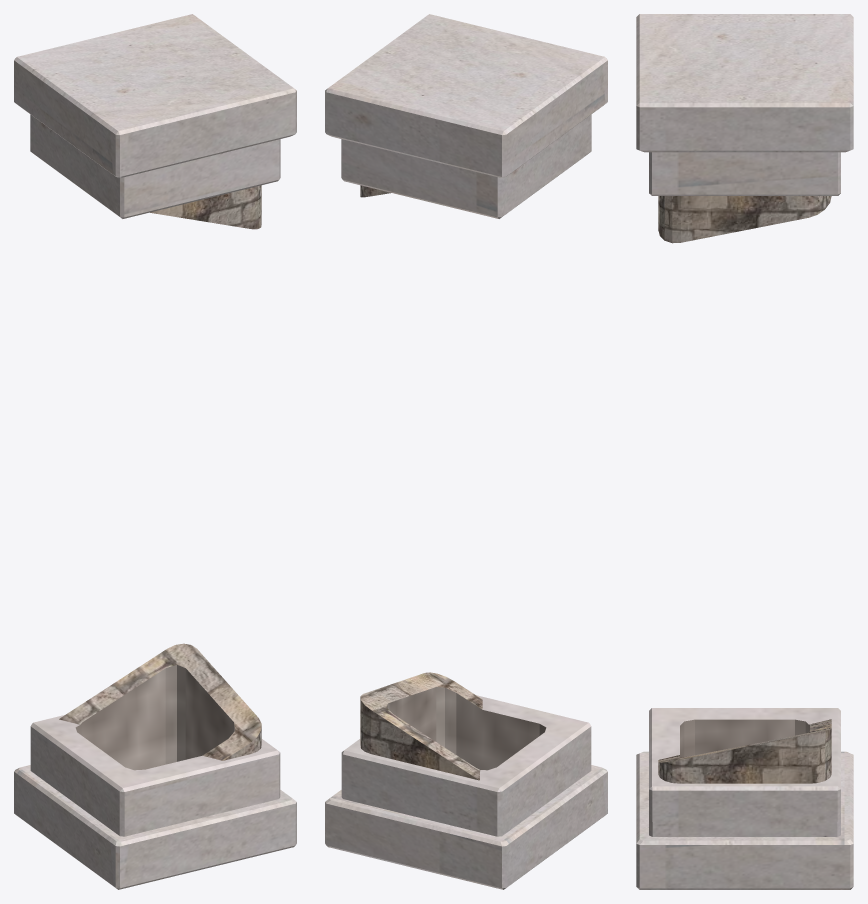
Rendered from Column_Base.glb.
3 views of the same model, side by side, from view 1: azimuth 30°, elevation 25°; view 2: azimuth 150°, elevation 25°; view 3: azimuth 270°, elevation 25° (orthographic). The views are drawn at different scales.
Visible parts, largest first — view 1: Column_Base_col; view 2: Column_Base_col; view 3: Column_Base_col.
Boxes of the visible parts, x1=… form: Column_Base_col: x1=14, y1=14, x2=296, y2=889; Column_Base_col: x1=325, y1=14, x2=607, y2=889; Column_Base_col: x1=636, y1=14, x2=853, y2=889.
Bounding box in the file's own units: 2.5 × 10 × 2.5.
2 materials, 2 textured.
